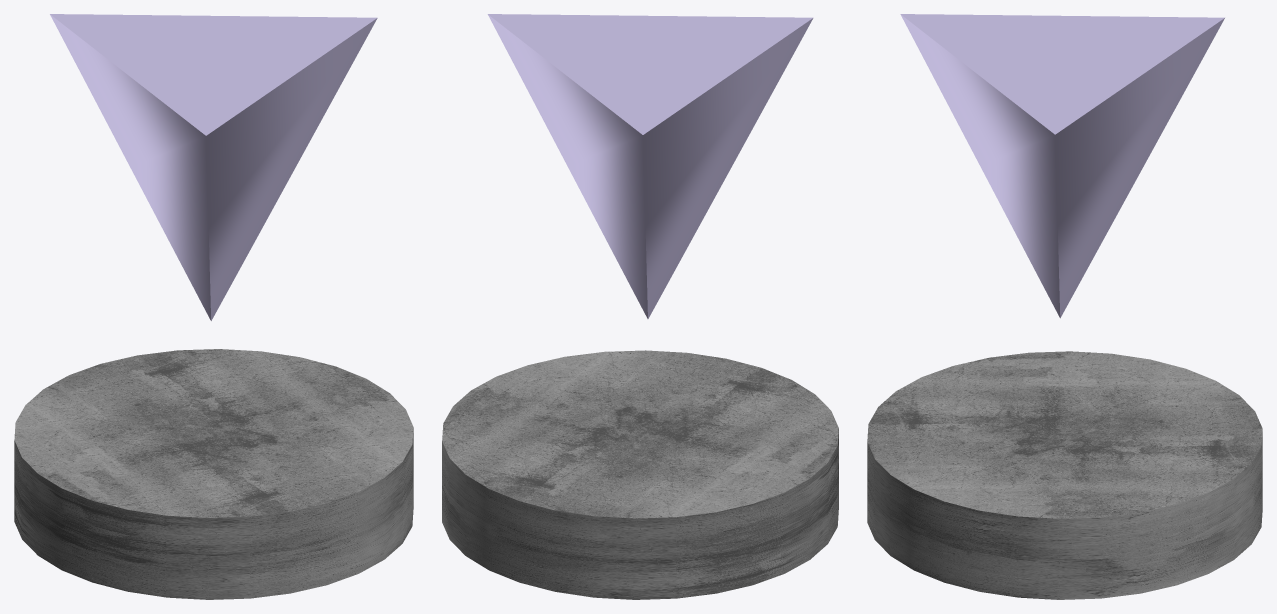
File: pyrViolet.glb
3 renders of one model, left to right at view 1: azimuth 30°, elevation 25°; view 2: azimuth 150°, elevation 25°; view 3: azimuth 270°, elevation 25°, orthographic.
Visible parts, largest first — view 1: 020_Cylinder_-_baked, 019_Cone; view 2: 020_Cylinder_-_baked, 019_Cone; view 3: 020_Cylinder_-_baked, 019_Cone.
Part boxes in pixels (left/top/right/bottom): 020_Cylinder_-_baked: left=14, top=349, right=413, bottom=599; 019_Cone: left=50, top=14, right=377, bottom=320; 020_Cylinder_-_baked: left=442, top=350, right=838, bottom=599; 019_Cone: left=487, top=14, right=813, bottom=318; 020_Cylinder_-_baked: left=867, top=351, right=1262, bottom=599; 019_Cone: left=900, top=14, right=1224, bottom=318.
Bounding box in the file's own units: 17.34 × 22.11 × 17.29.
Materials: 2 (1 with a texture image).
